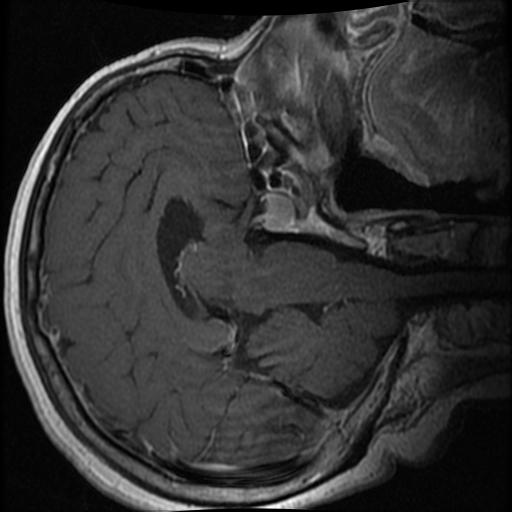pituitary tumour: (255, 191, 295, 234)
